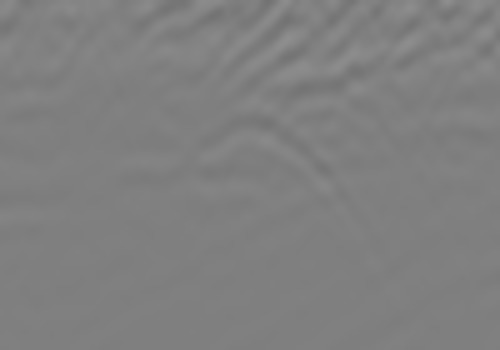hyperbola: (152, 103, 378, 287)
